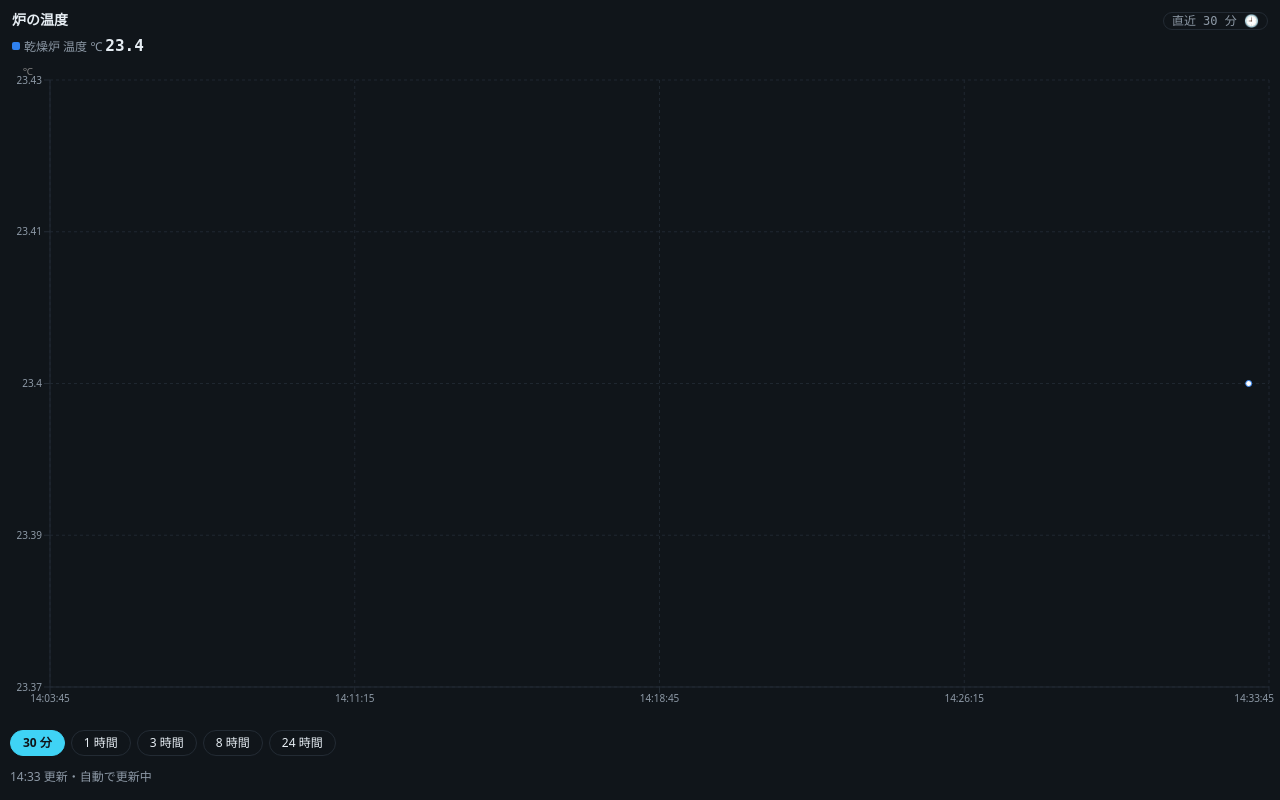
Test case: GraphLinkView › 期間のボタンで変えた期間は保存しない（localStorage・URL・ダッシュボードの期間はそのまま）。「今に戻る」でリンクの設定に戻す
The width and height of the screenshot is (1280, 800).
Click the button "3 時間". click: (167, 743)
box: [137,730,197,756]
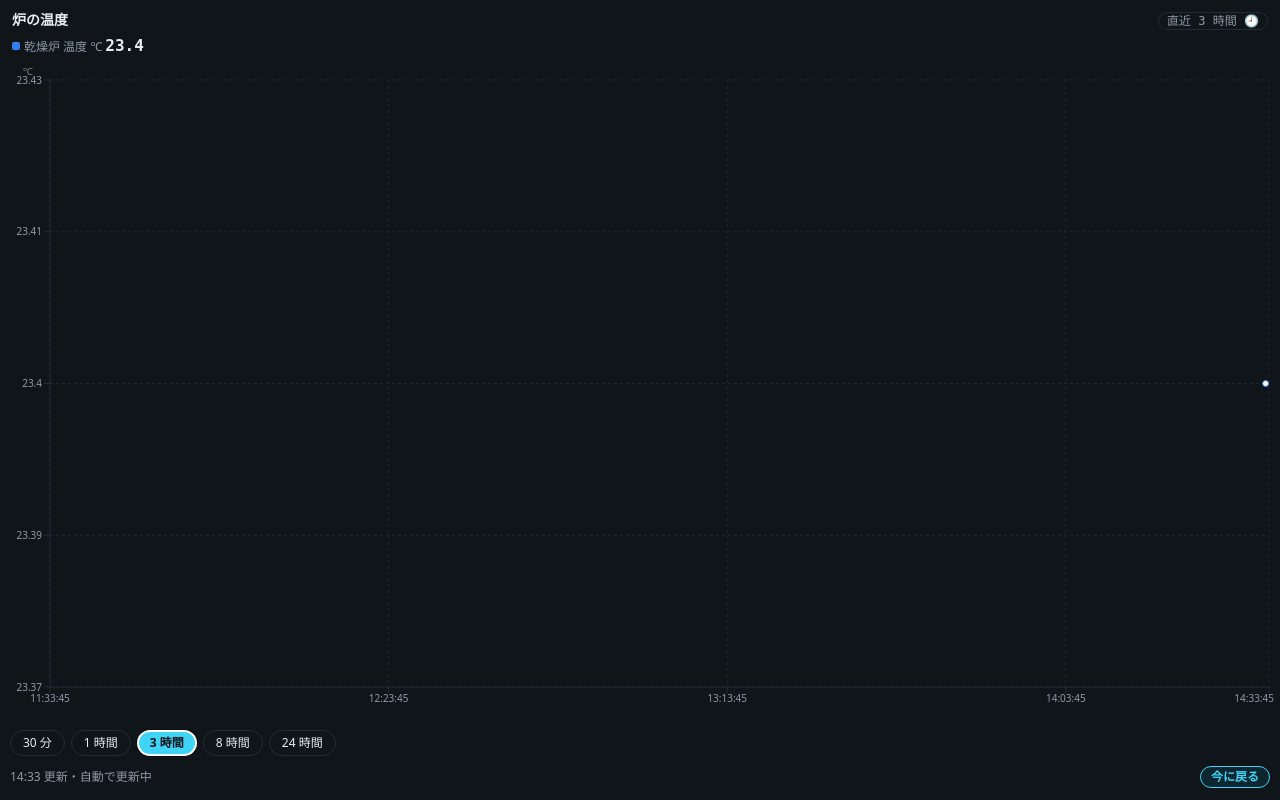
Expected: the button with aria-label "時刻を指定" shows "直近 3 時間", [1158,12,1268,30]
Click the button "今に戻る". click: (1235, 777)
box: [1200,766,1270,788]
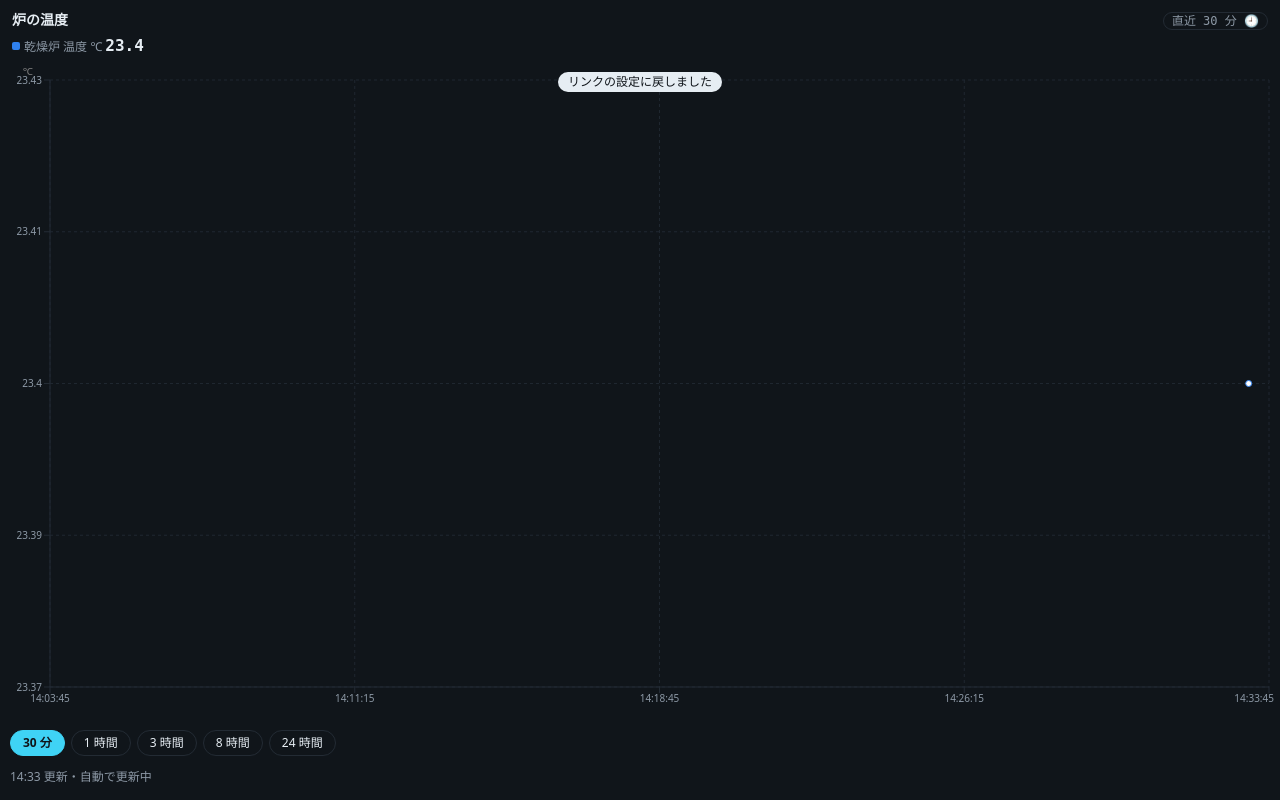
Expected: the button with aria-label "時刻を指定" shows "直近 30 分", [1163,12,1268,30]
